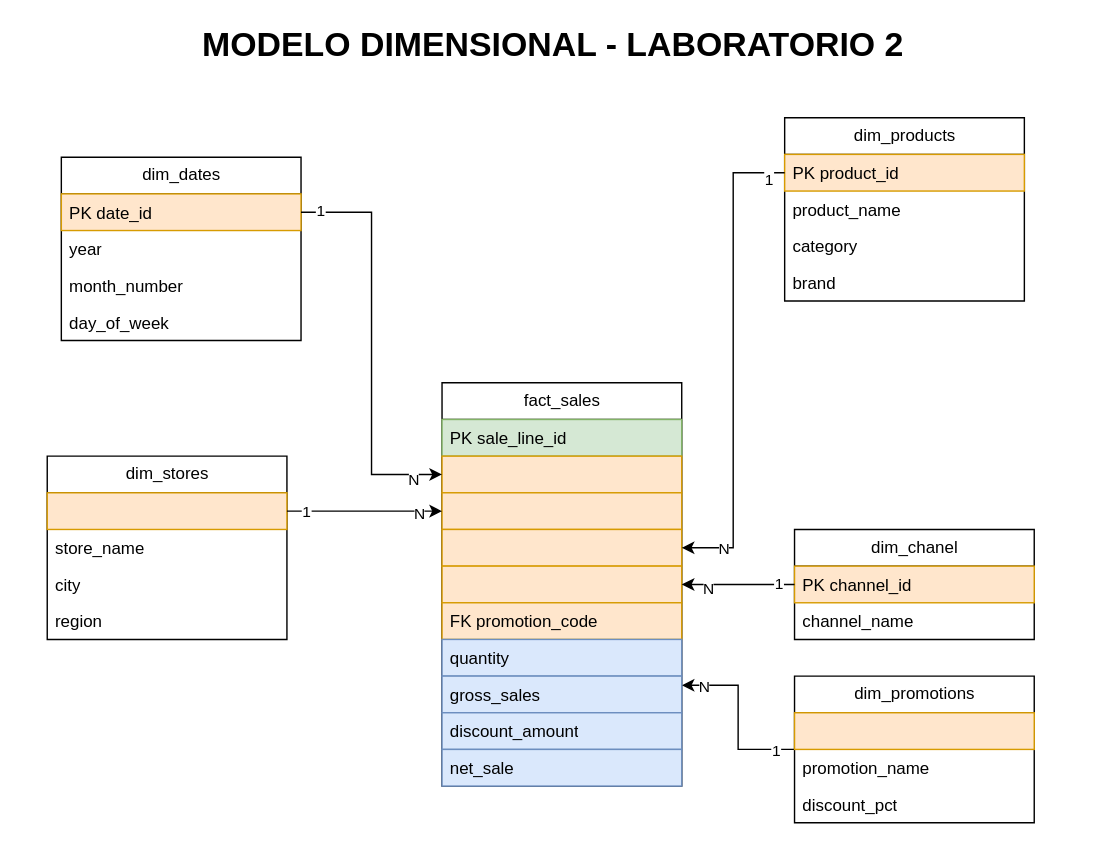
Some shapes in this 1105 by 850 pixel diagram are drawn without their labels. The shapes that lost their labels are listed below. From the top down, each one's centre as x and y in pixels, then its label:
At point 561,474: "FK date_id".
At point 166,510: "PK store_id".
At point 561,510: "FK store_id".
At point 561,547: "FK product_id".
At point 561,584: "FK channel_id".
At point 913,730: "PK promotion_code".
